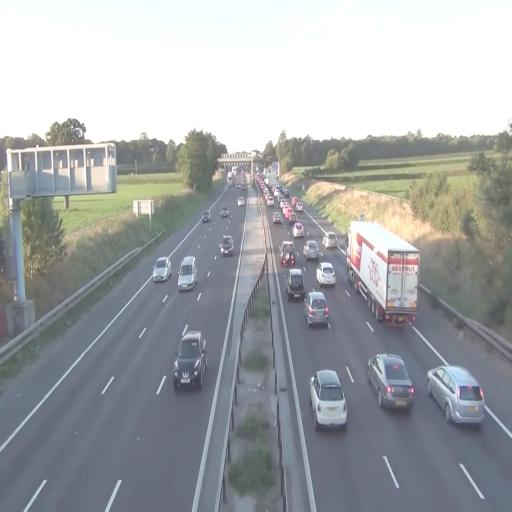vehicle: (346, 219, 420, 325), (426, 363, 485, 427), (367, 352, 415, 412), (308, 368, 348, 430), (172, 332, 206, 392), (306, 291, 330, 328), (286, 267, 306, 301), (178, 256, 197, 291), (316, 261, 336, 287), (152, 256, 172, 282), (280, 239, 296, 271), (303, 240, 321, 262), (219, 234, 234, 256)
